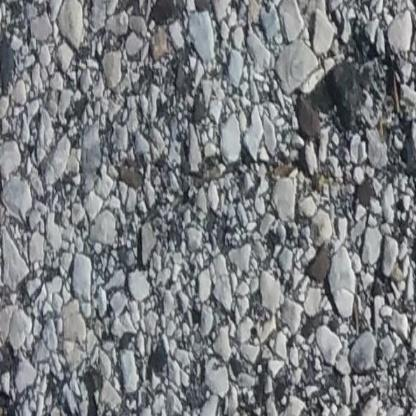Cracks: (0, 390, 86, 416)
